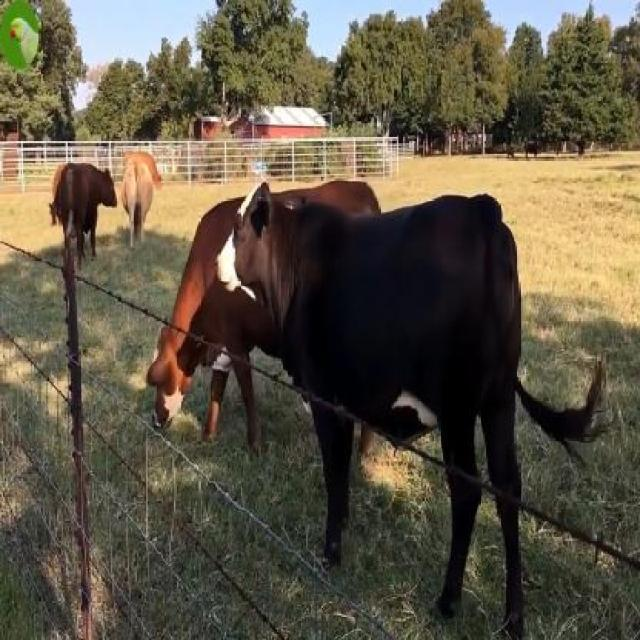Cow: (217, 183, 523, 639), (57, 162, 117, 266)
